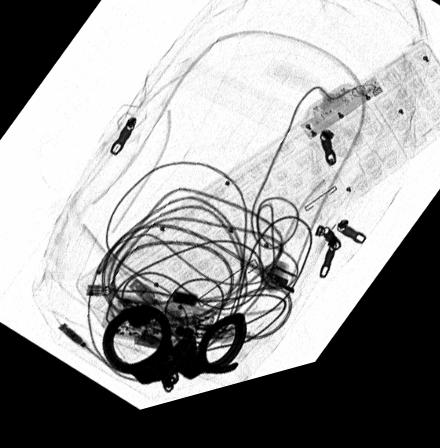HandCuffs: (101, 309, 246, 401)
